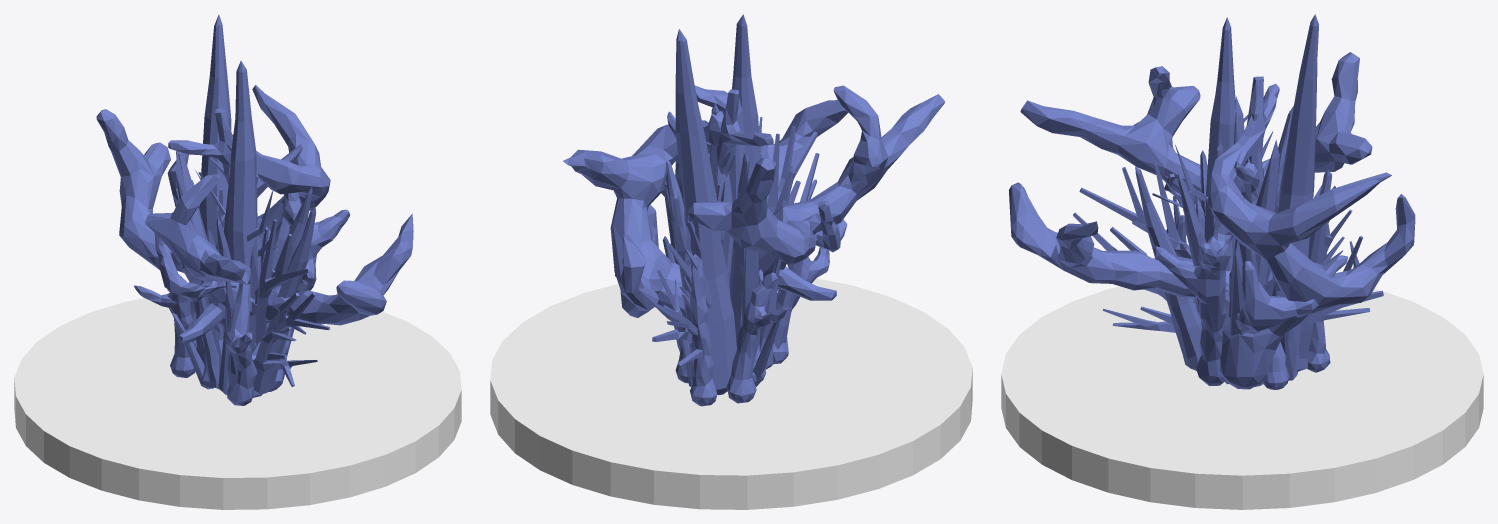
File: Coral-1.glb
3 renders of one model, left to right at view 1: azimuth 30°, elevation 25°; view 2: azimuth 150°, elevation 25°; view 3: azimuth 270°, elevation 25°, orthographic. The views are drawn at different scales.
Parts seen in each view (by area): view 1: Ground, Coral.001, Coral.005, Coral.003, Coral.002, Coral.006, Coral, Coral.004; view 2: Ground, Coral.001, Coral.005, Coral.003, Coral.002, Coral.006, Coral, Coral.004; view 3: Ground, Coral.001, Coral.005, Coral.003, Coral.002, Coral.006, Coral, Coral.004.
Boxes of the visible parts, x1,y1,x2,y2 form: Ground: [14, 294, 461, 509]; Coral.001: [96, 85, 413, 325]; Coral.005: [176, 14, 316, 394]; Coral.003: [134, 192, 350, 405]; Coral.002: [154, 108, 302, 344]; Coral.006: [216, 188, 330, 360]; Coral: [172, 152, 262, 397]; Coral.004: [167, 144, 317, 386]; Ground: [490, 278, 972, 509]; Coral.001: [563, 85, 945, 352]; Coral.005: [662, 14, 803, 395]; Coral.003: [661, 150, 829, 406]; Coral.002: [615, 89, 847, 300]; Coral.006: [652, 126, 819, 343]; Coral: [665, 97, 780, 386]; Coral.004: [663, 117, 780, 365]; Ground: [1001, 286, 1483, 509]; Coral.001: [1009, 52, 1415, 389]; Coral.005: [1135, 14, 1332, 386]; Coral.003: [1153, 215, 1330, 389]; Coral.002: [1164, 76, 1348, 334]; Coral.006: [1073, 163, 1383, 331]; Coral: [1195, 96, 1289, 335]; Coral.004: [1102, 114, 1370, 332].
Size of the model in its own units: 0.7998 by 0.735 by 0.7998.
